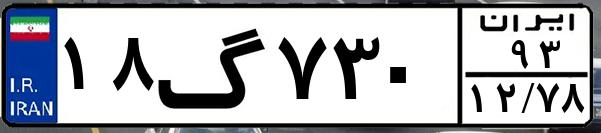0: (385, 28, 445, 110)
1: (57, 26, 110, 100), (470, 70, 495, 125)
2: (495, 70, 520, 125)
3: (330, 28, 385, 110), (537, 27, 568, 80)
7: (270, 28, 330, 110), (535, 70, 560, 125)
8: (110, 28, 156, 98), (560, 70, 590, 125)
9: (508, 27, 537, 80)
گ: (156, 12, 270, 120)
